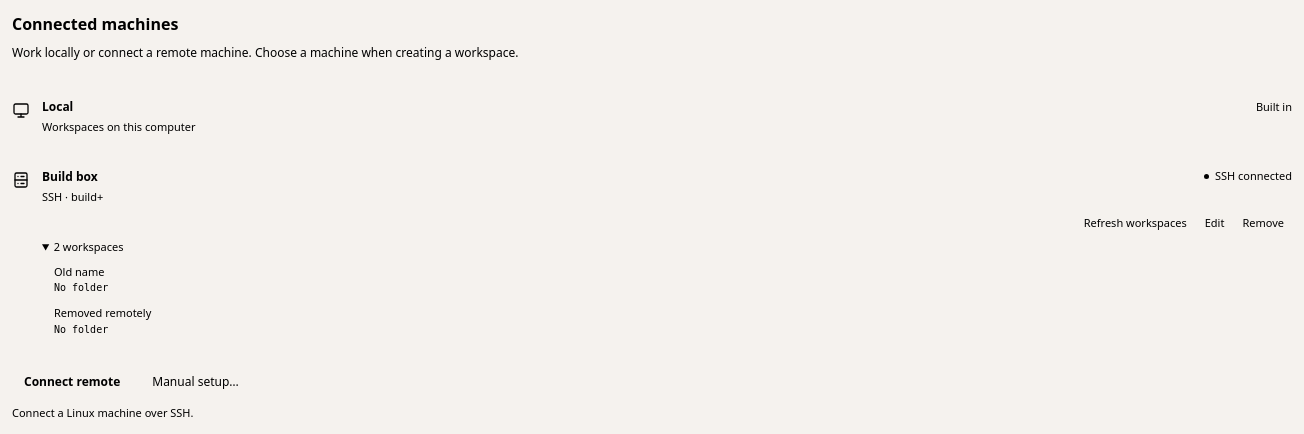
Scenario: ConnectionsPane › clears old inventory while refreshing and after failure, and reflects remote rename and deletion
Check: the text "Old name" is shown, box 54,264 -> 104,280
Click the button "Refresh workspaces" at (1135, 223), box 1076,214 -> 1195,231
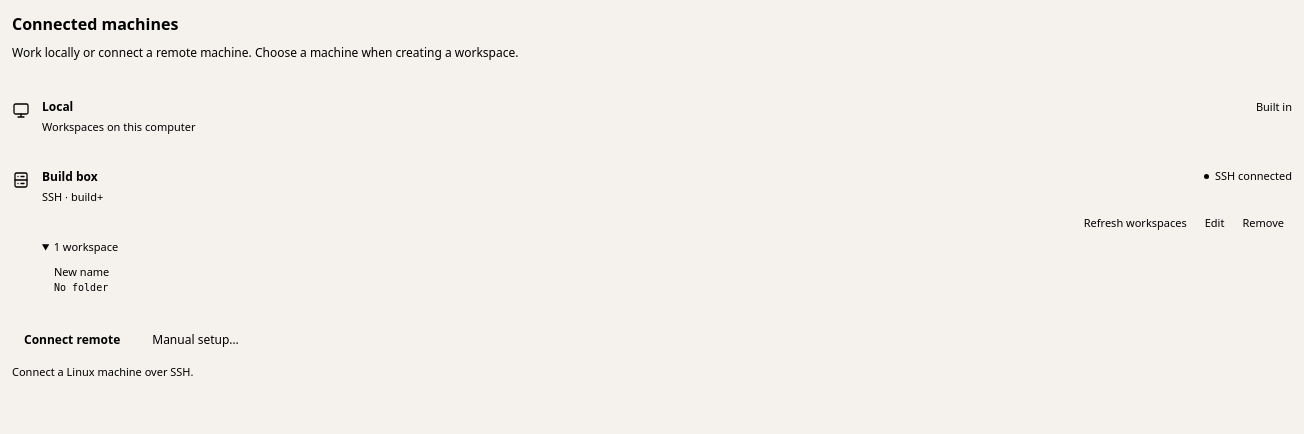
Check: the text "Old name" is gone
Check: the heading "2 workspaces" is gone
Check: the text "New name" is shown, box 54,264 -> 109,280
Click the button "Refresh workspaces" at (1135, 223), box 1076,214 -> 1195,231
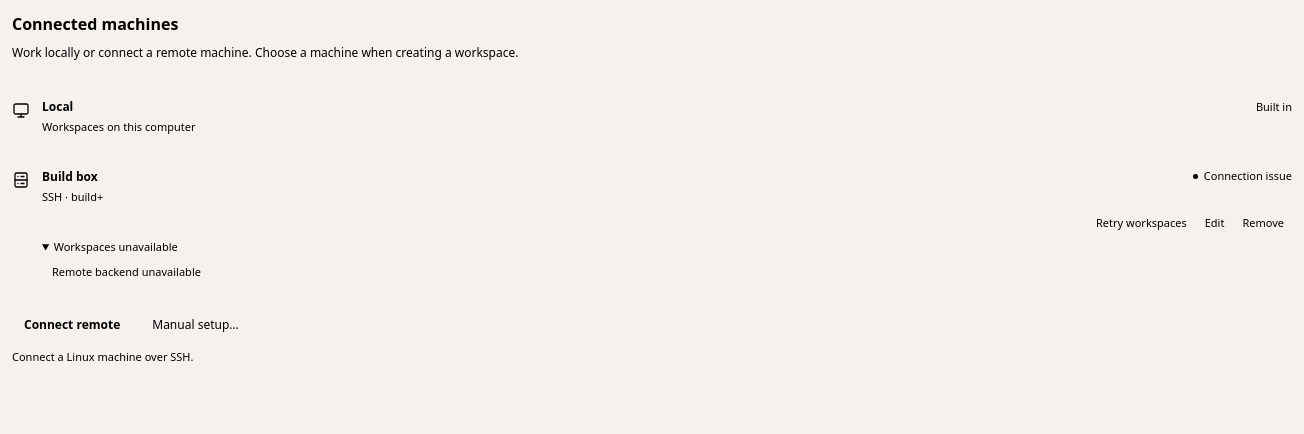
Check: the heading "Workspaces unavailable" is shown, box 42,239 -> 178,256
Check: the text "New name" is gone
Check: the heading "1 workspace" is gone
